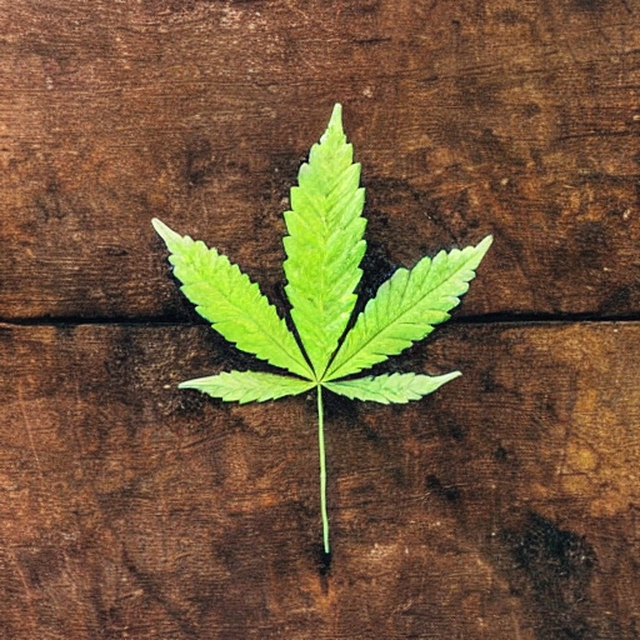Marijuana Leaf: (149, 101, 495, 556)
